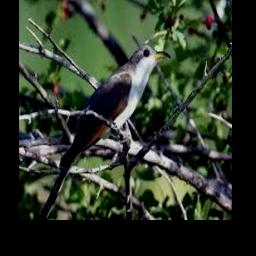Cuckoo: (39, 45, 171, 219)
